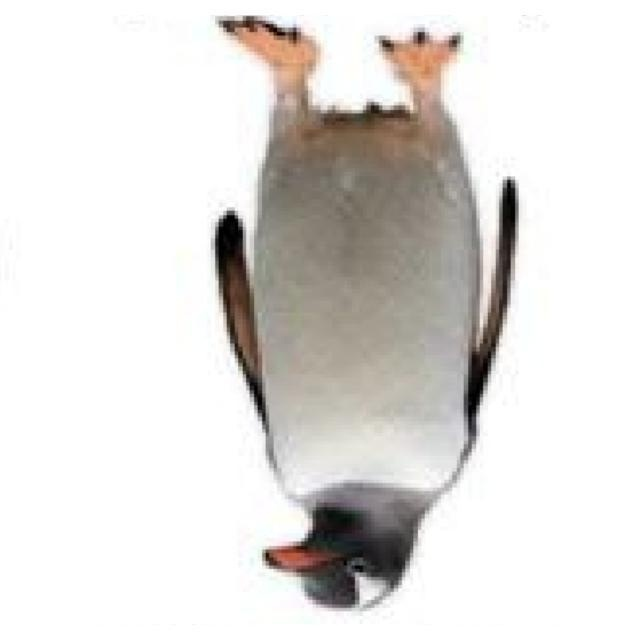penguin: (213, 16, 518, 609)
